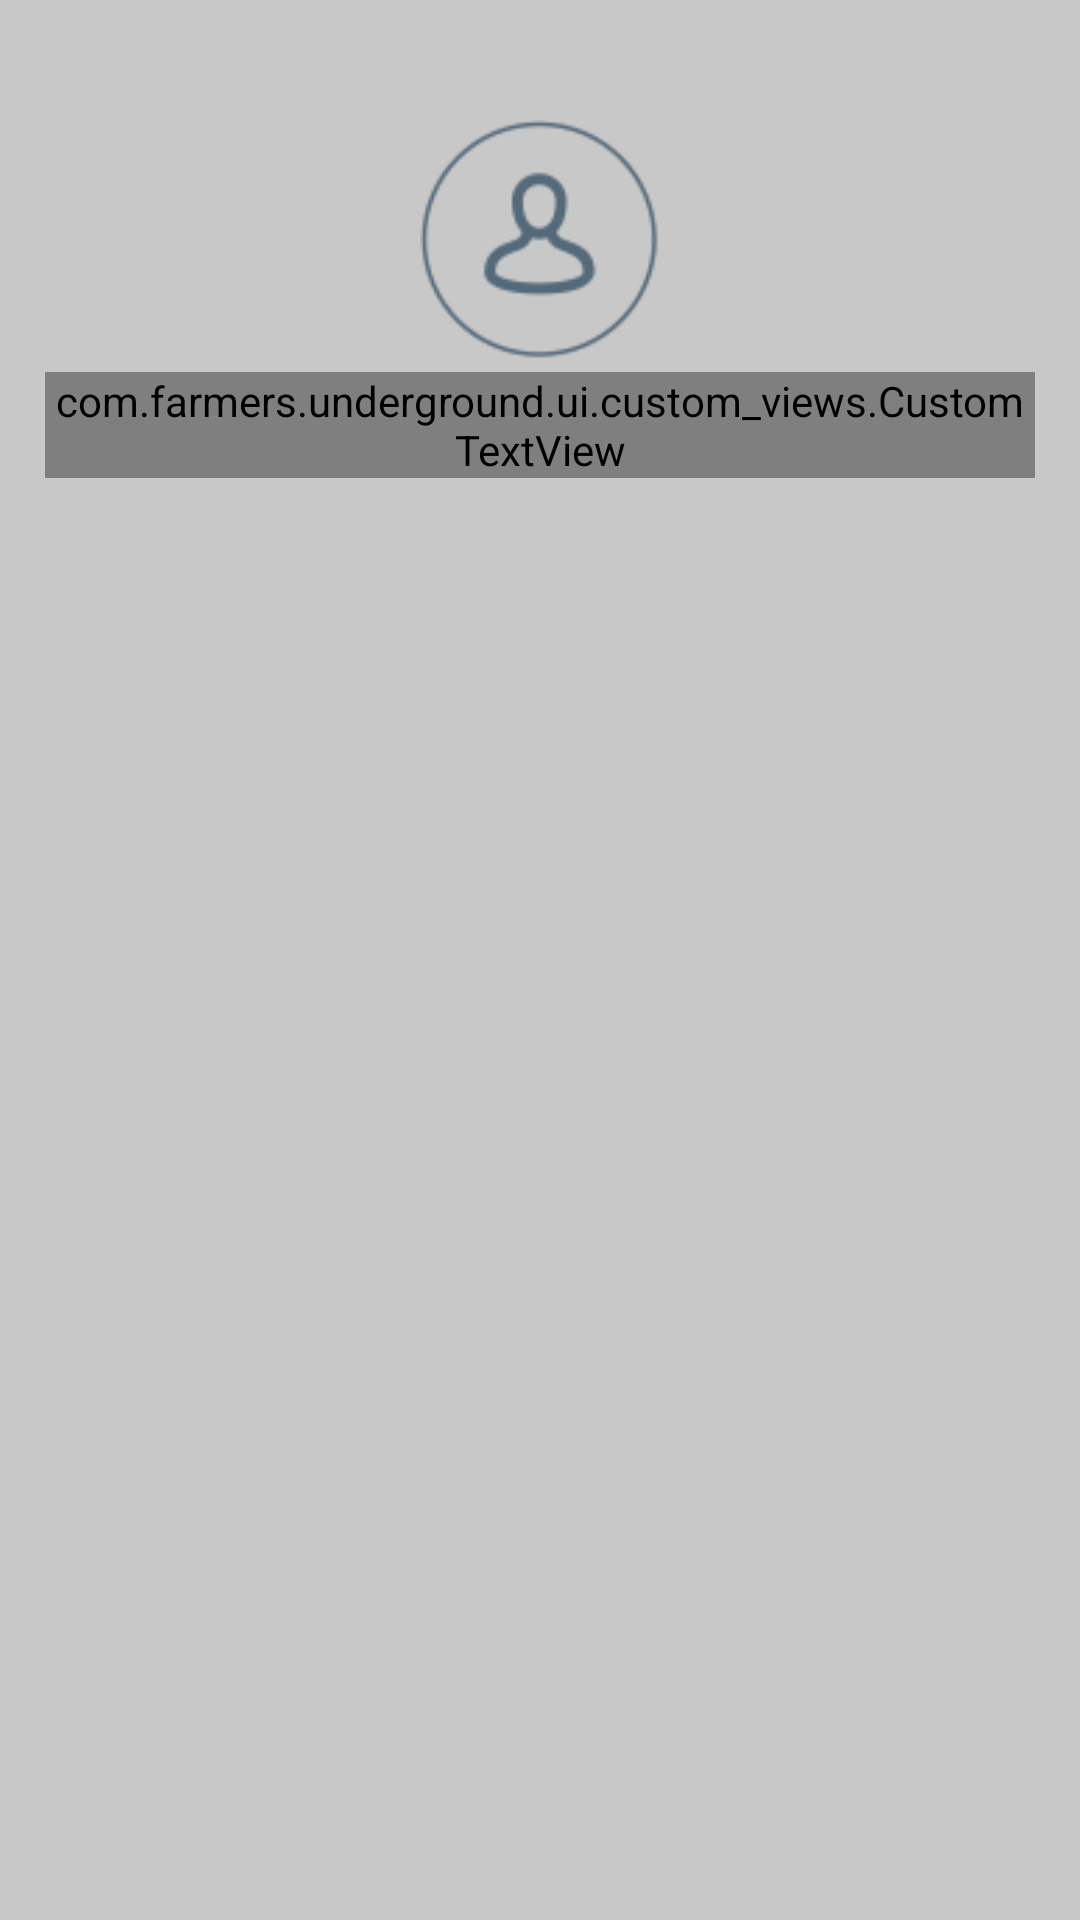

Icons on this 1080 × 1920 Android screen, each with its box as (x1, y1, x2, y2):
user oval: (420, 120, 658, 358)
